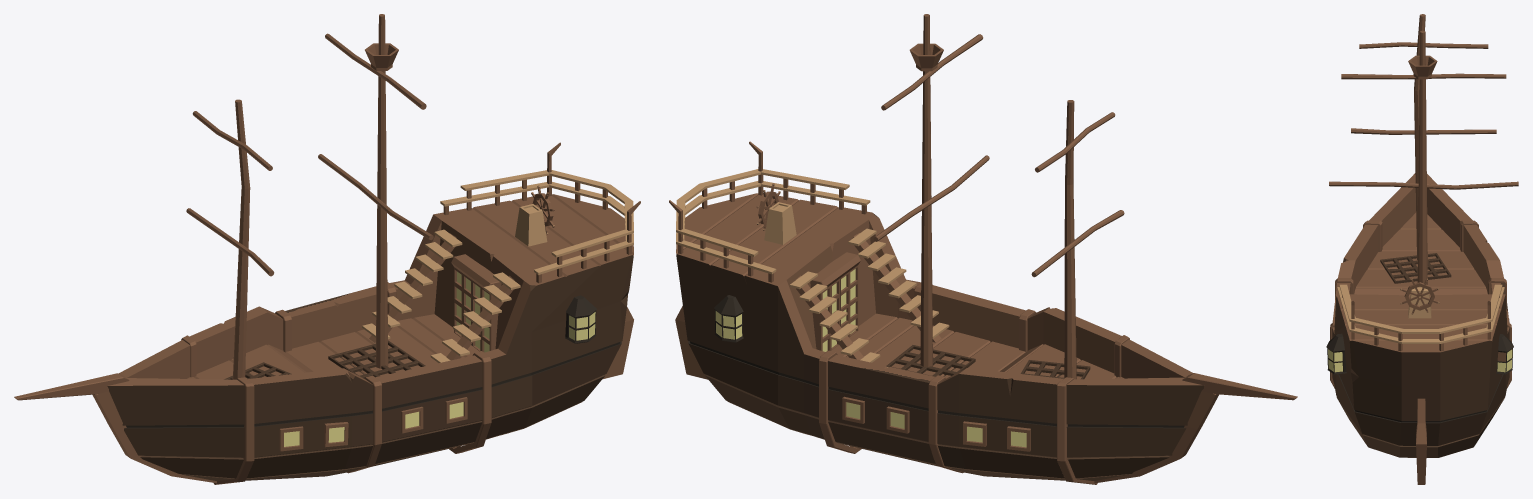
Rendered from BigBoat.fbx.
3 views of the same model, side by side, from view 1: azimuth 30°, elevation 25°; view 2: azimuth 150°, elevation 25°; view 3: azimuth 270°, elevation 25° (orthographic). The views are drawn at different scales.
Parts seen in each view (by area): view 1: Cube.001; view 2: Cube.001; view 3: Cube.001.
Boxes of the visible parts, x1,y1,x2,y2 form: Cube.001: (14,14,640,484); Cube.001: (669,14,1297,484); Cube.001: (1326,14,1518,484).
Bounding box in the file's own units: 912 × 611 × 289.
